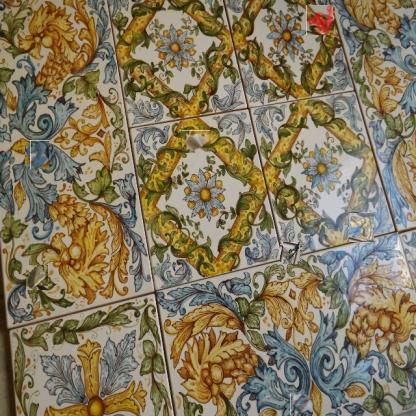dirty: (348, 212, 374, 242), (182, 130, 210, 153), (26, 265, 50, 289), (290, 394, 313, 416), (281, 243, 301, 263)
liquid: (306, 6, 334, 35), (27, 142, 52, 166)
